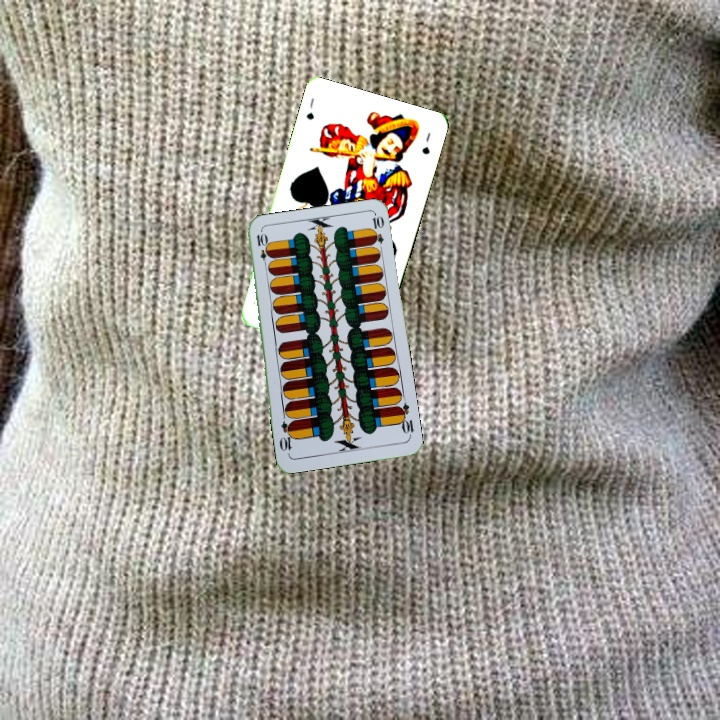E10: (393, 399, 416, 440), (252, 229, 271, 270)
GU: (302, 94, 317, 122)
